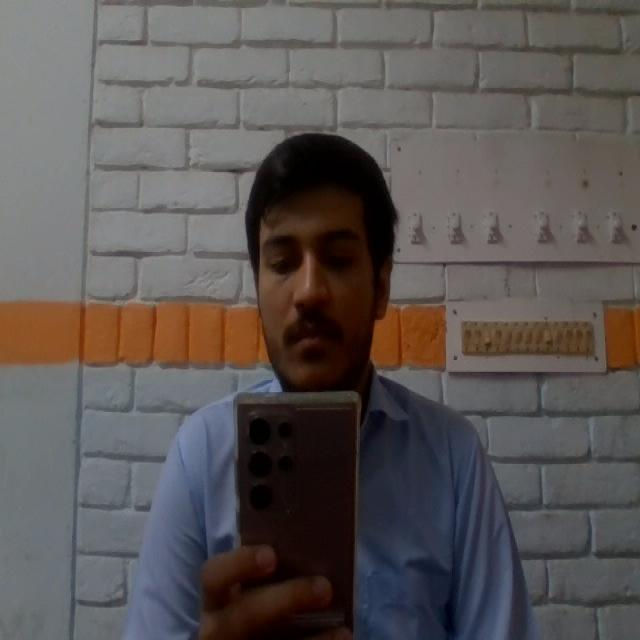phone: (232, 388, 363, 640)
using-phone: (113, 131, 535, 640)
